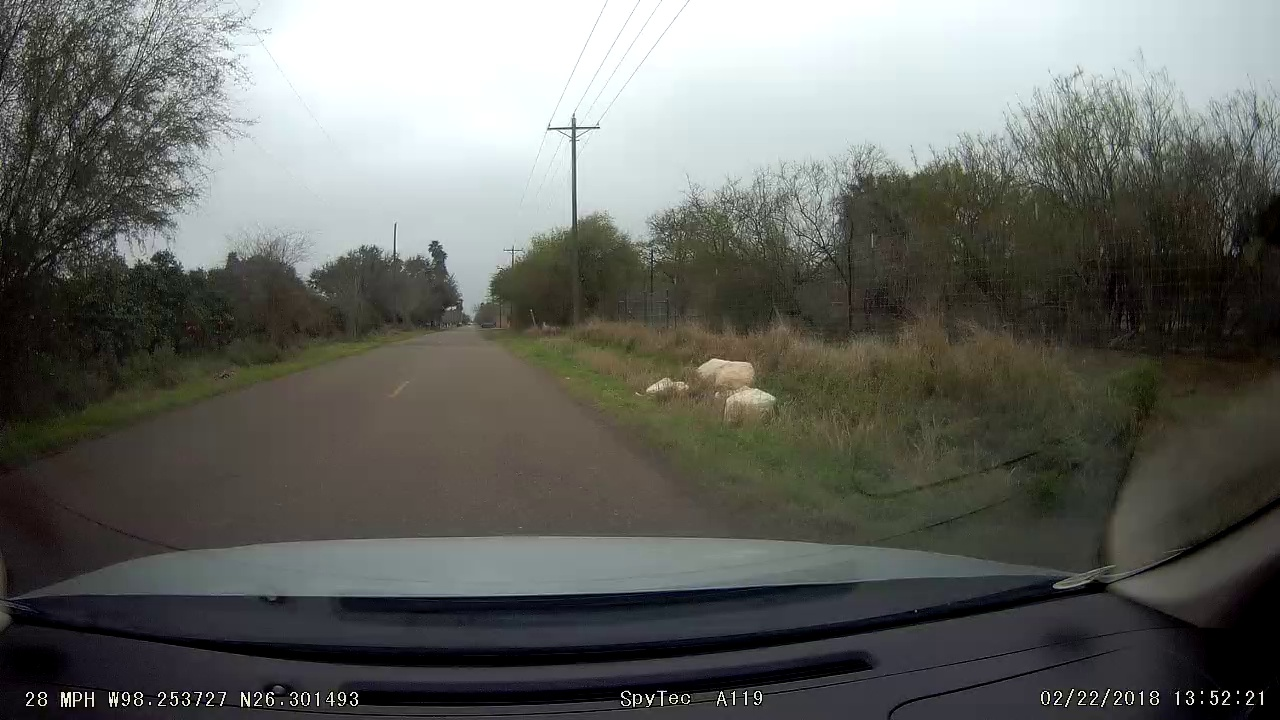blurredLine: (382, 376, 415, 401)
